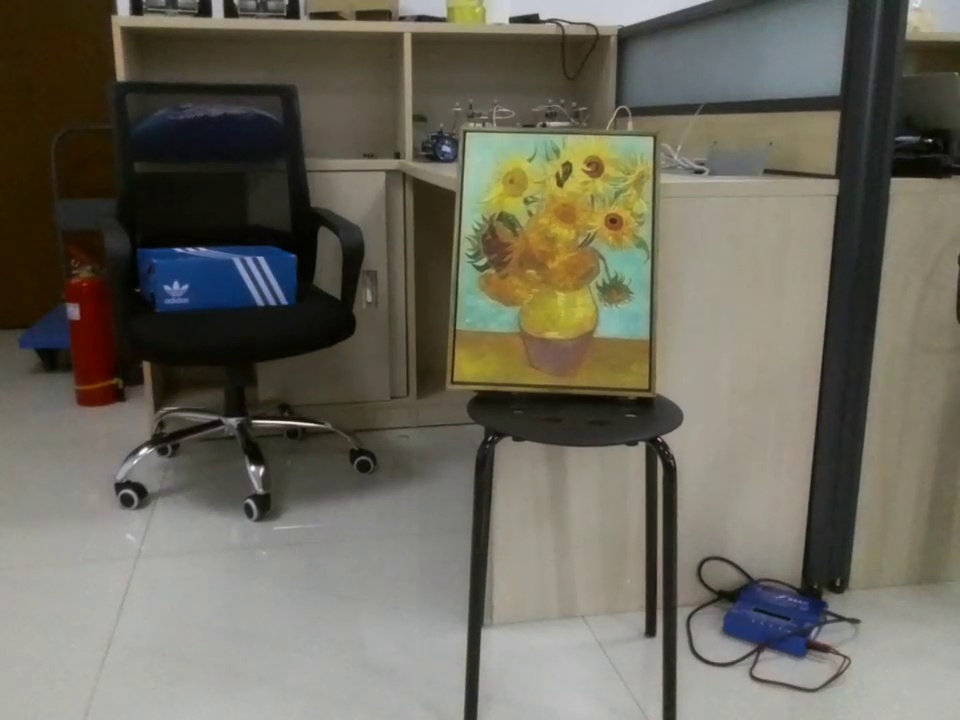painting: (447, 131, 660, 400)
